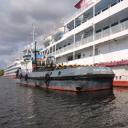tugboat: (17, 41, 117, 96)
